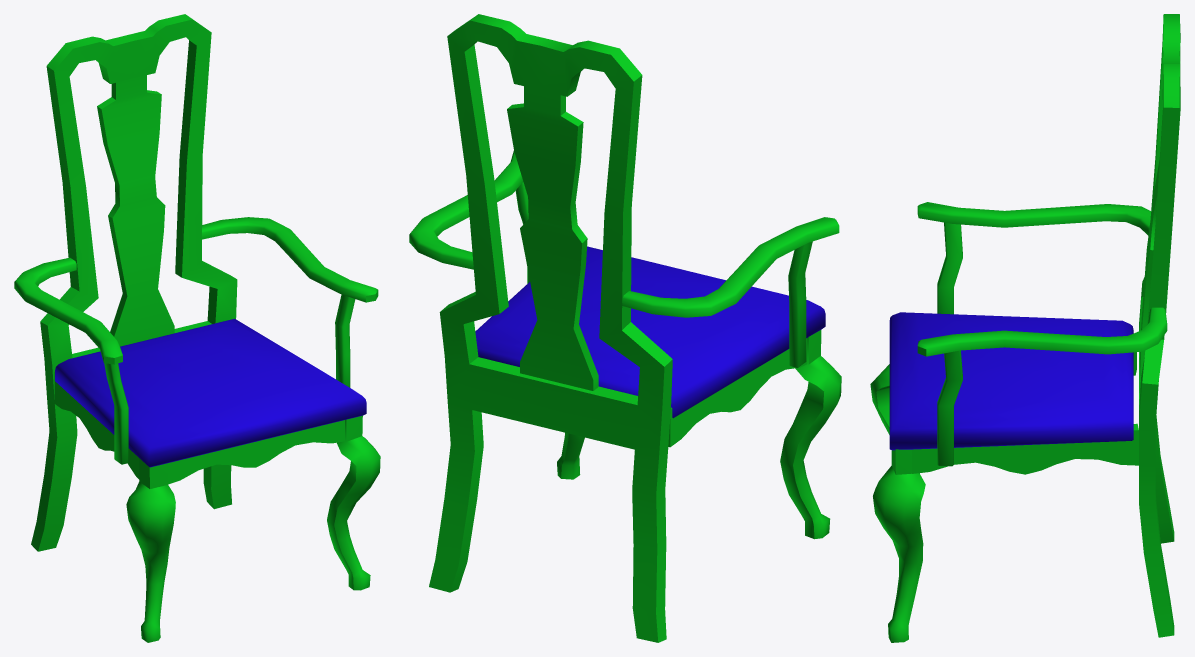
File: Chair_02.FBX
The picture shows the model from 3 angles, left to right: view 1: azimuth 30°, elevation 25°; view 2: azimuth 150°, elevation 25°; view 3: azimuth 270°, elevation 25°; orthographic projection. The views are drawn at different scales.
Visible parts, largest first — view 1: SM_Arm_Chair_D; view 2: SM_Arm_Chair_D; view 3: SM_Arm_Chair_D.
Boxes of the visible parts, <box> form: SM_Arm_Chair_D: <box>14,14,380,642</box>; SM_Arm_Chair_D: <box>409,14,841,642</box>; SM_Arm_Chair_D: <box>870,14,1180,642</box>.
Bounding box in the file's own units: 68.62 × 118 × 61.29.
